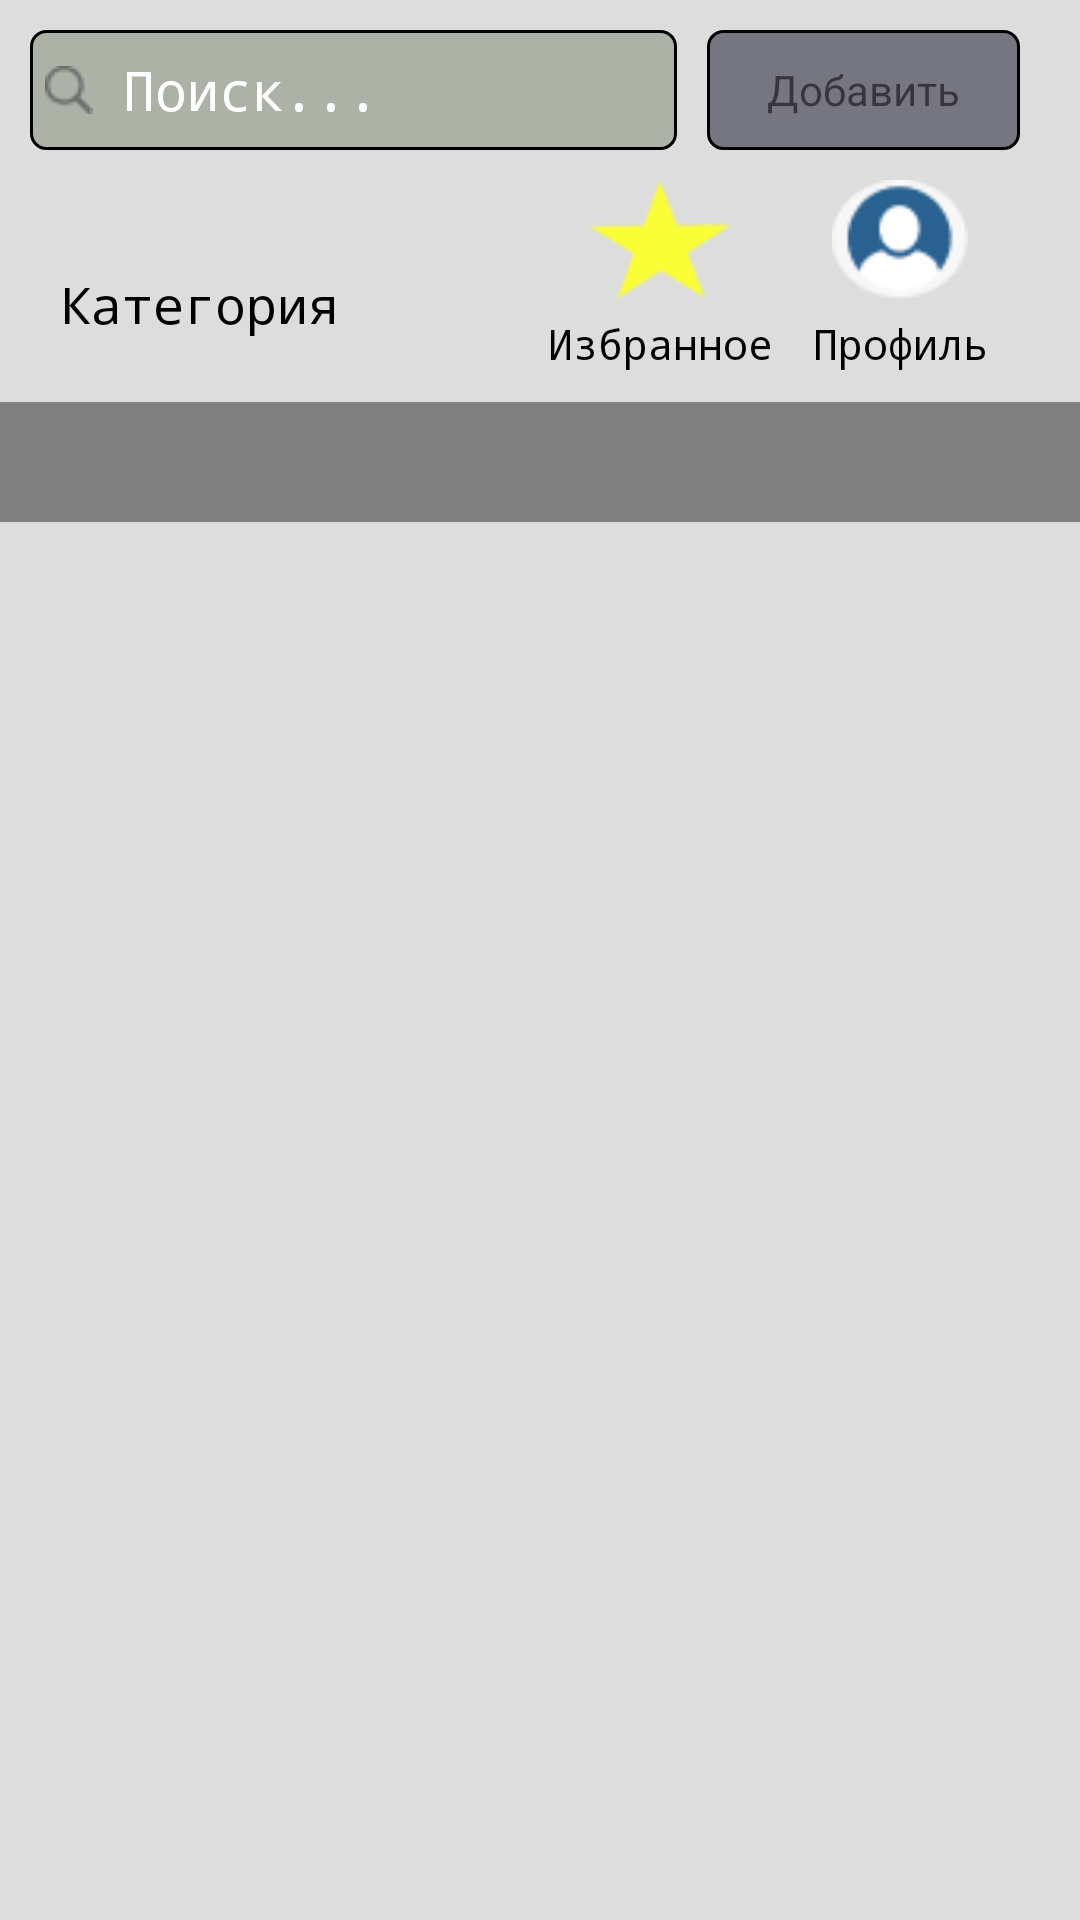

Named icons in this screenshot (1080x1920) and their centers, (x=x, y=y):
star: (x=660, y=239)
